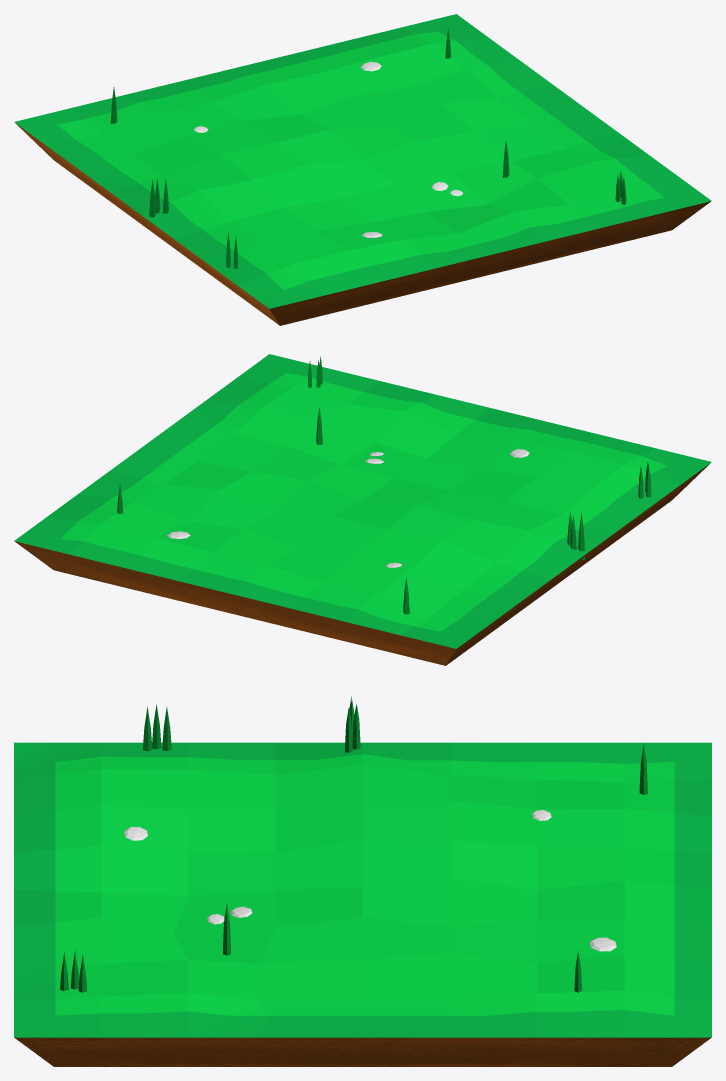
File: grassflowerwhite.fbx
3 views of the same model, one above another, from view 1: azimuth 30°, elevation 25°; view 2: azimuth 150°, elevation 25°; view 3: azimuth 270°, elevation 25° (orthographic). The views are drawn at different scales.
Parts seen in each view (by area): view 1: pCube1; view 2: pCube1; view 3: pCube1.
Part boxes in pixels (x1,y1,x2,y2): pCube1: [14, 14, 711, 325]; pCube1: [14, 354, 711, 665]; pCube1: [14, 742, 711, 1066].
Size of the model in its own units: 97.93 by 15.34 by 97.93.
Materials: 4 (2 with a texture image).
